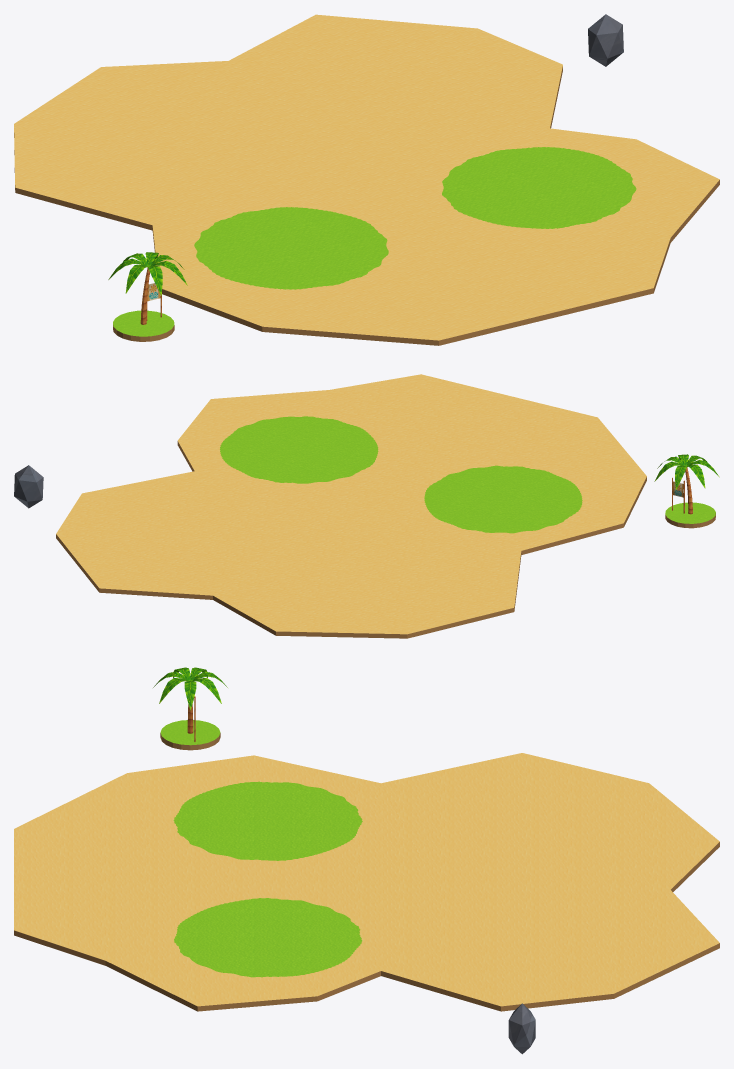
Rendered from surface-23-DBvyEC9G.glb.
3 views of the same model, one above another, from view 1: azimuth 30°, elevation 25°; view 2: azimuth 150°, elevation 25°; view 3: azimuth 270°, elevation 25° (orthographic). The views are drawn at different scales.
Parts seen in each view (by area): view 1: HI_Surface_23, FLC_Regions_23, HI_SceneryIslet_0.012, HI_Palm.011, HI_BasaltOutcrop.012; view 2: HI_Surface_23, FLC_Regions_23, HI_Palm.011, HI_SceneryIslet_0.012, HI_BasaltOutcrop.012; view 3: HI_Surface_23, FLC_Regions_23, HI_SceneryIslet_0.012, HI_Palm.011, HI_BasaltOutcrop.012.
Part boxes in pixels (bbox=[...]): HI_Surface_23: bbox=[14, 14, 719, 345]; FLC_Regions_23: bbox=[194, 147, 636, 289]; HI_SceneryIslet_0.012: bbox=[113, 310, 174, 341]; HI_Palm.011: bbox=[108, 252, 187, 324]; HI_BasaltOutcrop.012: bbox=[588, 14, 623, 66]; HI_Surface_23: bbox=[56, 374, 646, 638]; FLC_Regions_23: bbox=[220, 416, 582, 533]; HI_Palm.011: bbox=[654, 454, 719, 514]; HI_SceneryIslet_0.012: bbox=[665, 502, 715, 528]; HI_BasaltOutcrop.012: bbox=[14, 465, 43, 508]; HI_Surface_23: bbox=[14, 753, 719, 1011]; FLC_Regions_23: bbox=[173, 781, 362, 977]; HI_SceneryIslet_0.012: bbox=[160, 720, 220, 750]; HI_Palm.011: bbox=[153, 667, 227, 733]; HI_BasaltOutcrop.012: bbox=[508, 1003, 535, 1054].
Bounding box in the file's own units: 42.89 × 5.15 × 40.
Materials: 7 (6 with a texture image).
